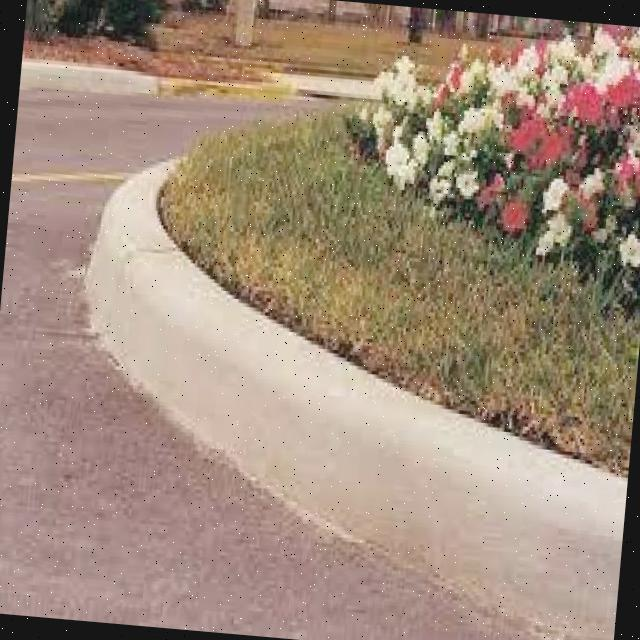curb: (343, 381, 635, 640), (140, 266, 394, 538), (25, 39, 365, 116), (80, 176, 200, 386)
